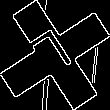L_SE: (28, 26, 82, 84)
